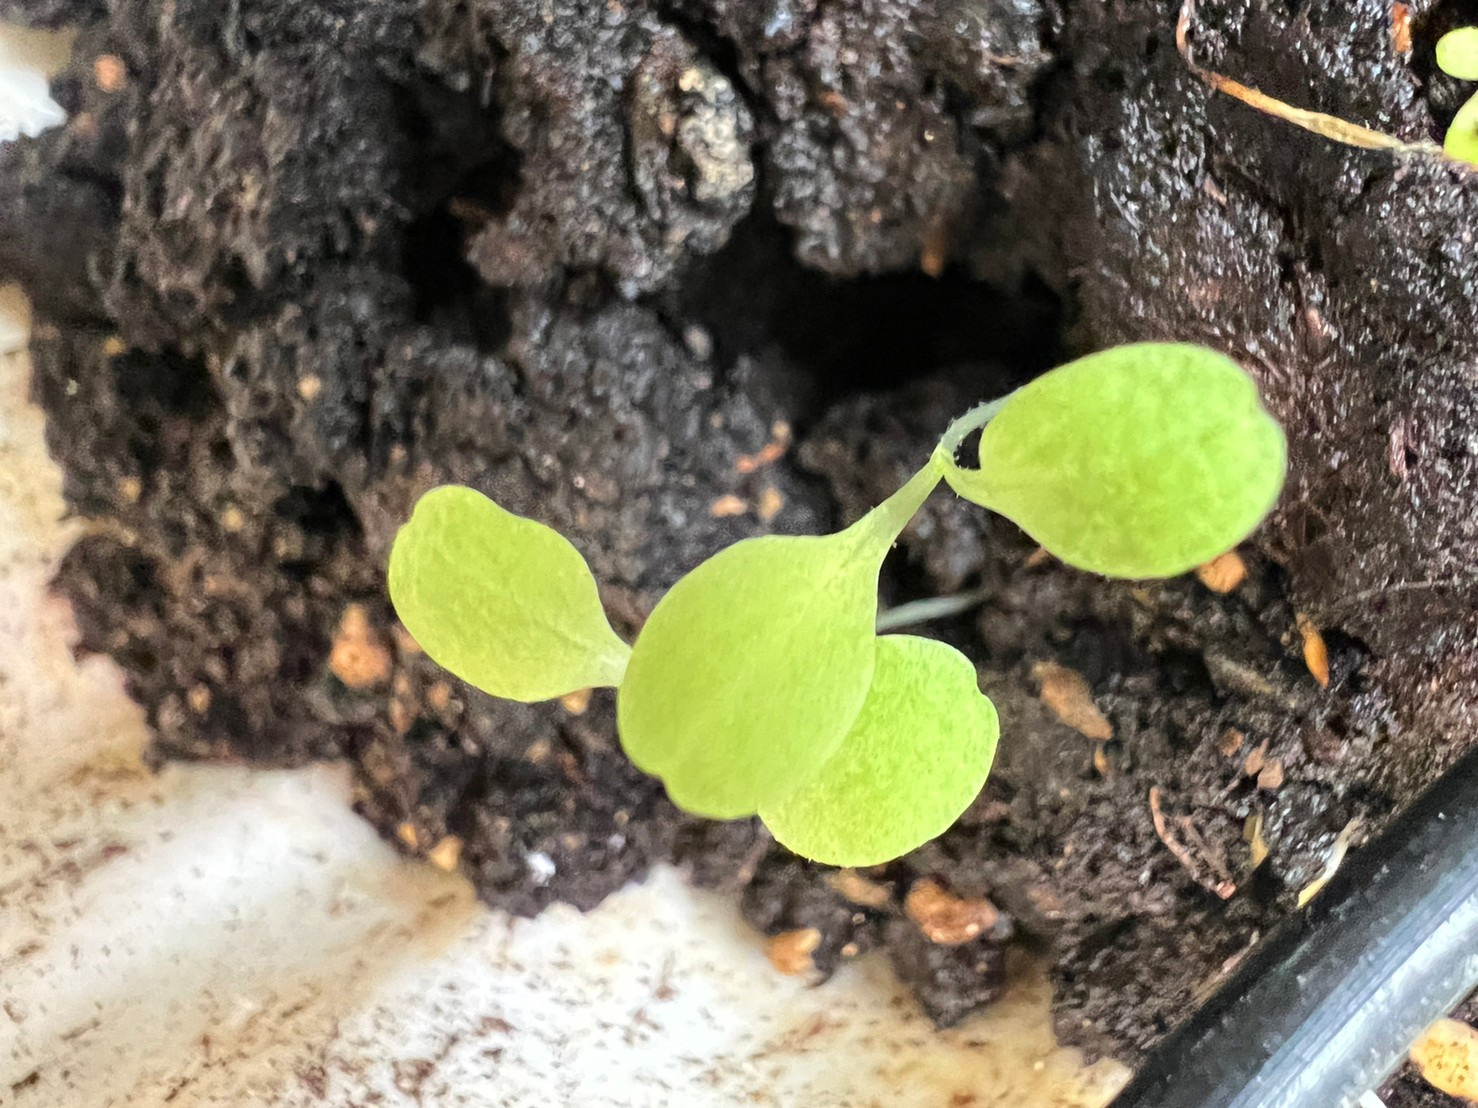week2: (687, 290, 1301, 848), (319, 414, 1000, 879)
